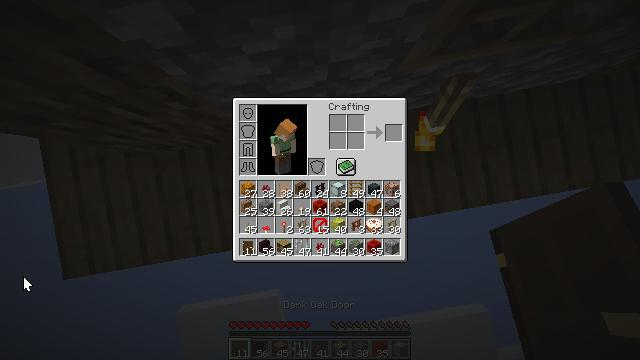cursor: (276, 23, 292, 33)
